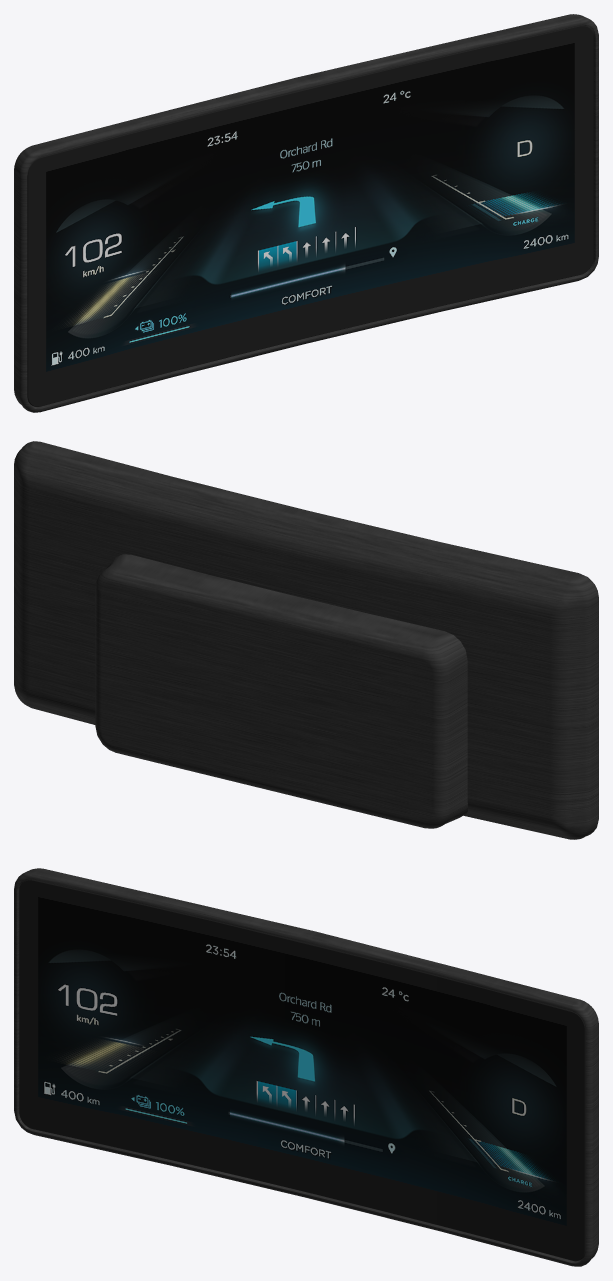
File: MID_3.fbx
3 views of the same model, one above another, from view 1: azimuth 30°, elevation 25°; view 2: azimuth 150°, elevation 25°; view 3: azimuth 330°, elevation 25° (orthographic).
Parts seen in each view (by area): view 1: MID_3; view 2: MID_3; view 3: MID_3.
Part boxes in pixels (<box>): MID_3: <box>14,14,598,412</box>; MID_3: <box>14,441,598,839</box>; MID_3: <box>14,868,598,1266</box>.
Size of the model in its own units: 25.83 by 11.2 by 3.42.
Materials: 1 (1 with a texture image).
